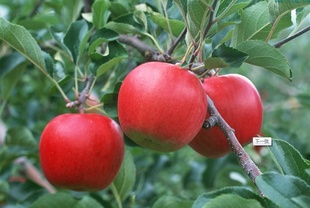apple: (117, 61, 207, 151), (39, 114, 125, 191)
obscured(2)_apple: (187, 71, 264, 157)
